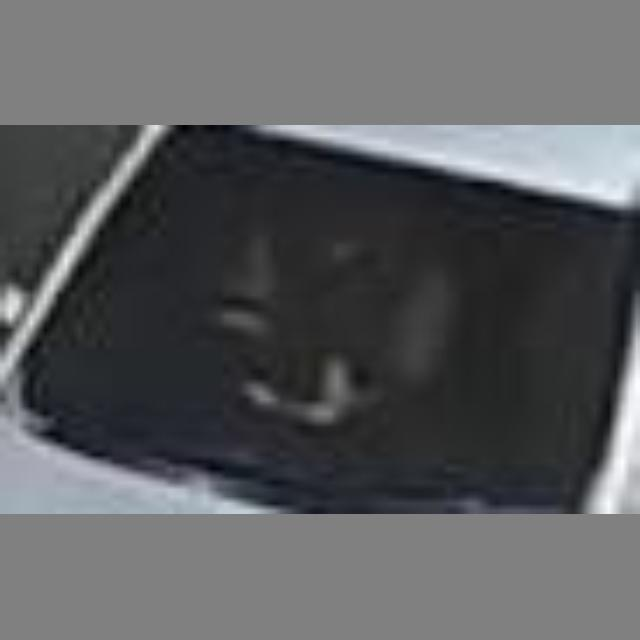tidak-pakai: (216, 174, 459, 410)
